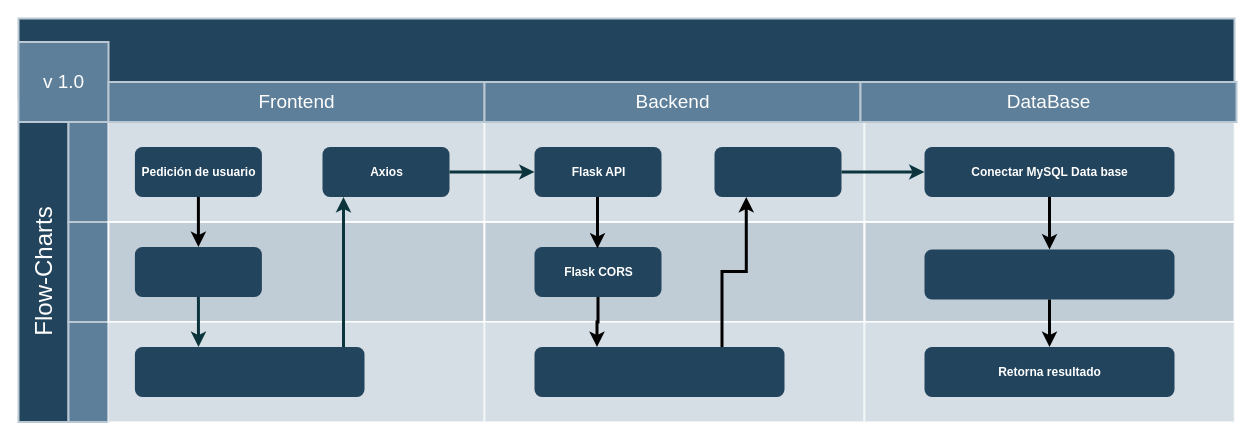
Image size: 1254x440. Some labels were removed from this diagram. The box of each missing label's shape, as (x1, y1, x2, y2) in pixels:
@app_views.router: (714, 146, 841, 196)
basicFecth(method, path, body): (134, 346, 364, 396)
Ejecutar Procedimiento Almacenado: (924, 249, 1174, 299)
Project Management: (17, 17, 1235, 99)
useBackend(): (134, 246, 261, 296)
Validación JWT (JSON Web Token): (534, 346, 784, 396)
